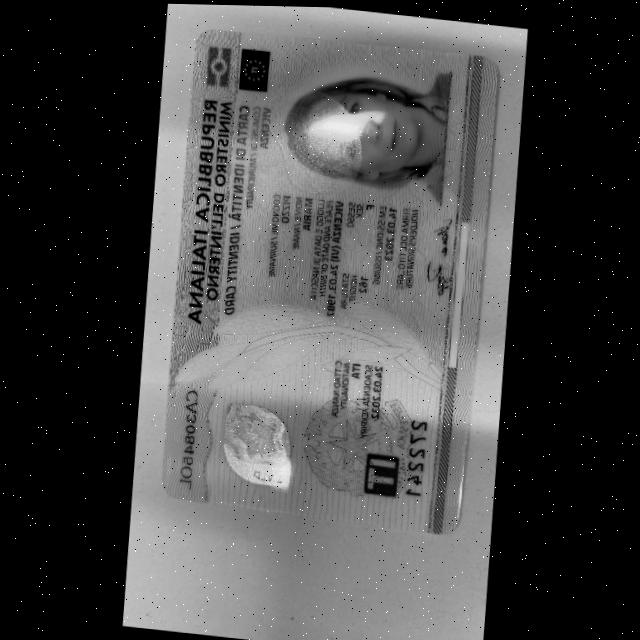card: (163, 32, 496, 533)
